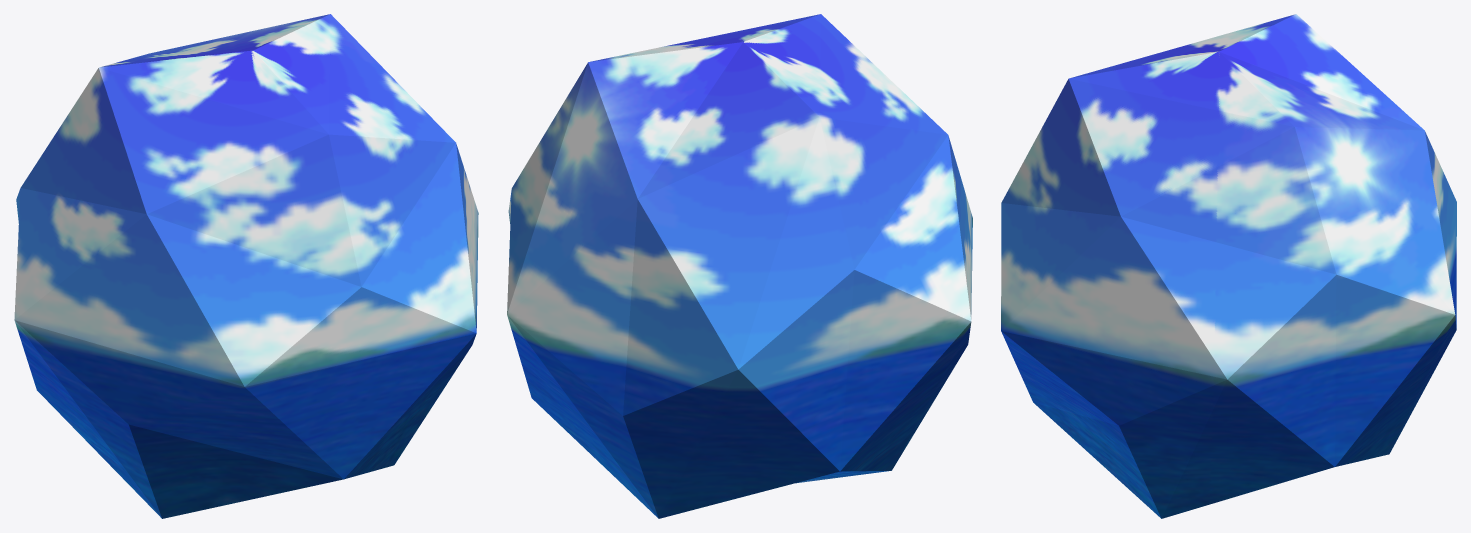
The model's file is Caicular_Skybox.FBX.
3 renders of one model, left to right at view 1: azimuth 30°, elevation 25°; view 2: azimuth 150°, elevation 25°; view 3: azimuth 270°, elevation 25°, orthographic. The views are drawn at different scales.
Parts seen in each view (by area): view 1: Caicular_Skybox; view 2: Caicular_Skybox; view 3: Caicular_Skybox.
Boxes of the visible parts, x1,y1,x2,y2 form: Caicular_Skybox: (14, 14, 478, 518); Caicular_Skybox: (507, 14, 972, 518); Caicular_Skybox: (1001, 14, 1456, 518).
Size of what is drawn, in the model's own units: 5430 by 4715 by 4922.
